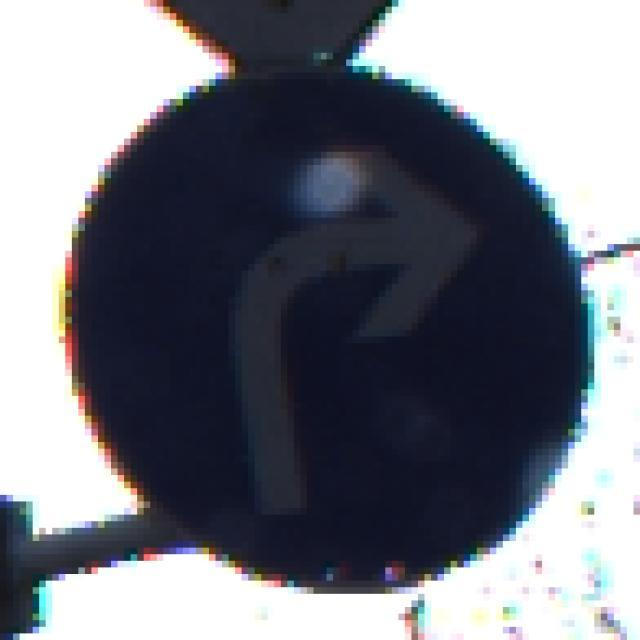compulsary turn right ahead: (55, 56, 589, 602)
